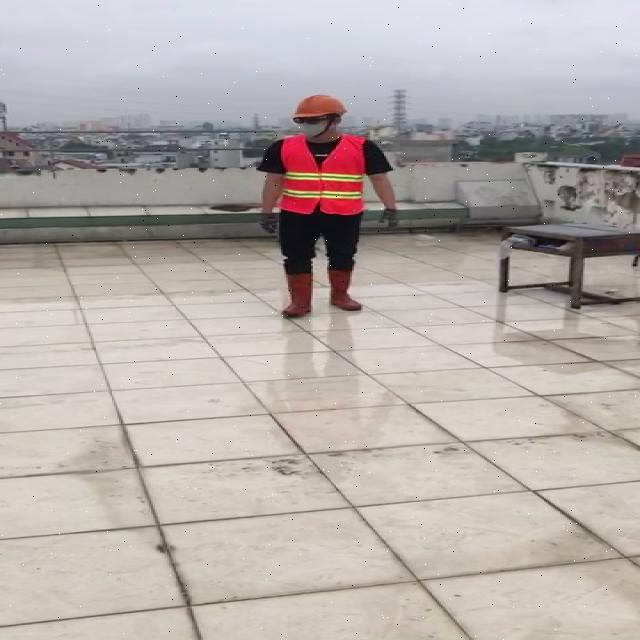Hard_hat: (287, 91, 350, 123)
Vest: (279, 133, 371, 221)
